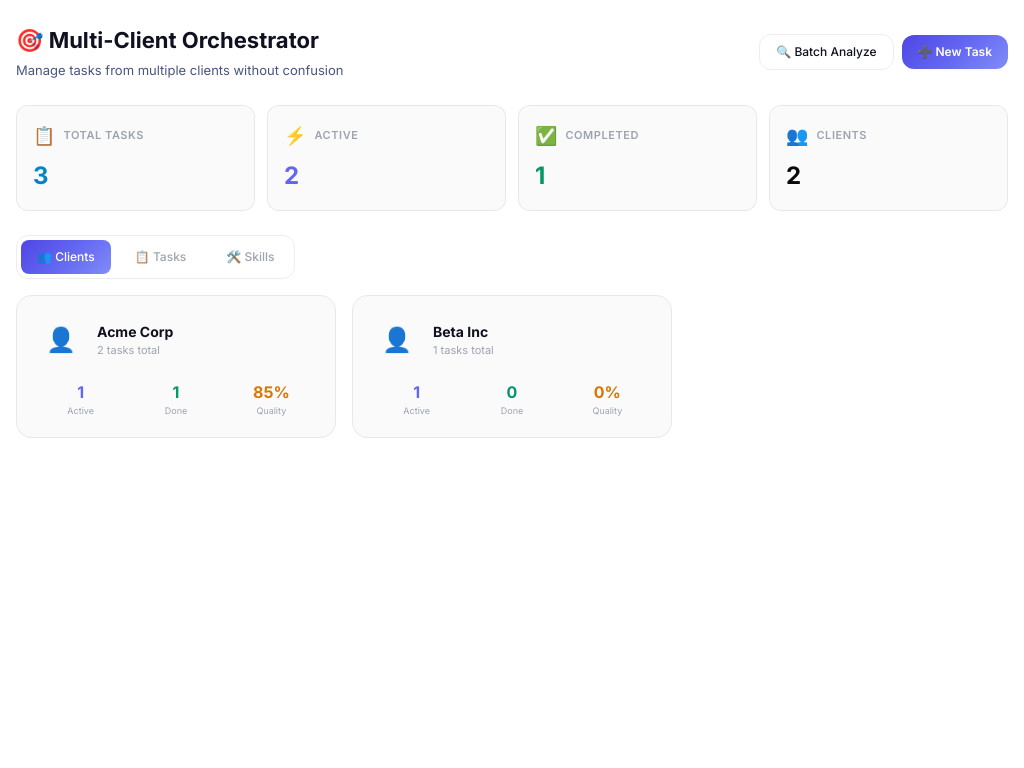
it: MultiClientOrchestrator › filters tasks by status
The image size is (1024, 768).
Click the button "📋 Tasks". click: (160, 256)
box: [119,240,202,274]
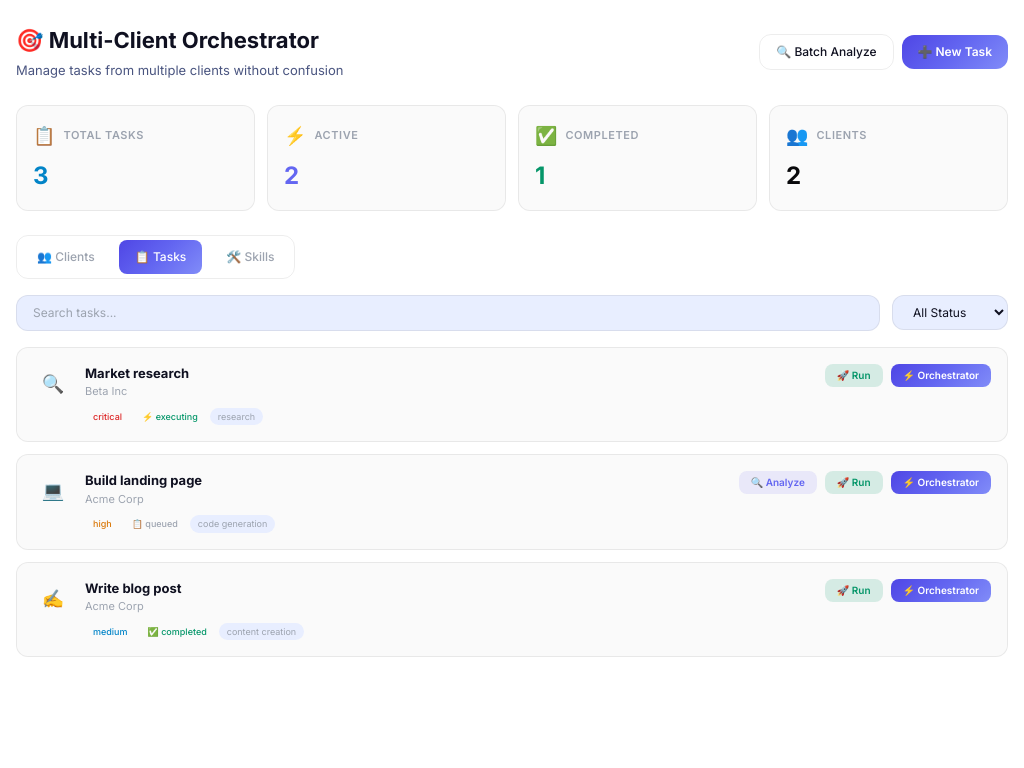
Select "Completed" in the dropdown showing "All Status". click: (950, 312)
box: [892,295,1008,330]
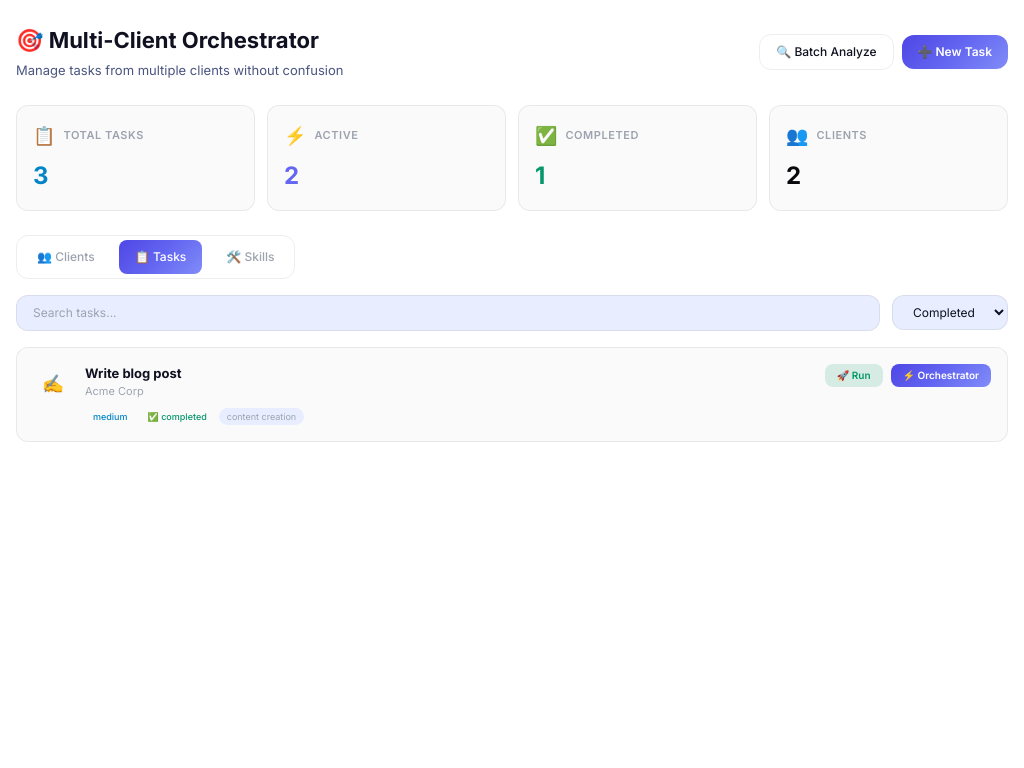
Expected: the heading "Write blog post" is shown, [85,364,182,380]
Expected: the heading "Build landing page" is gone
